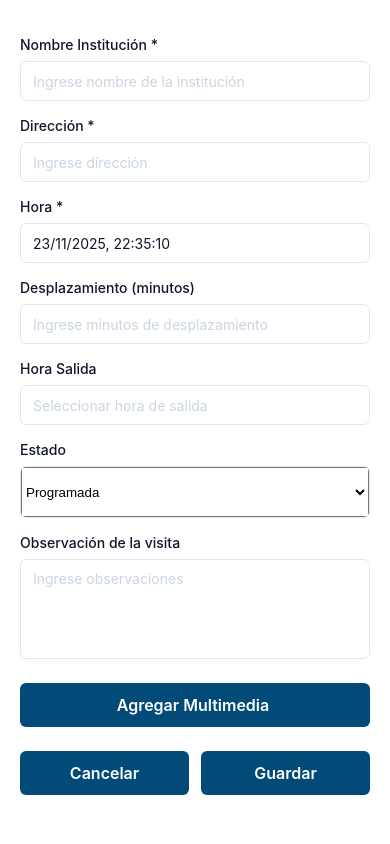
Test: VisitForm - Multimedia Upload › adjunta imagen desde galería
Click the text "Agregar Multimedia".
click(195, 705)  # box [117,695,273,715]
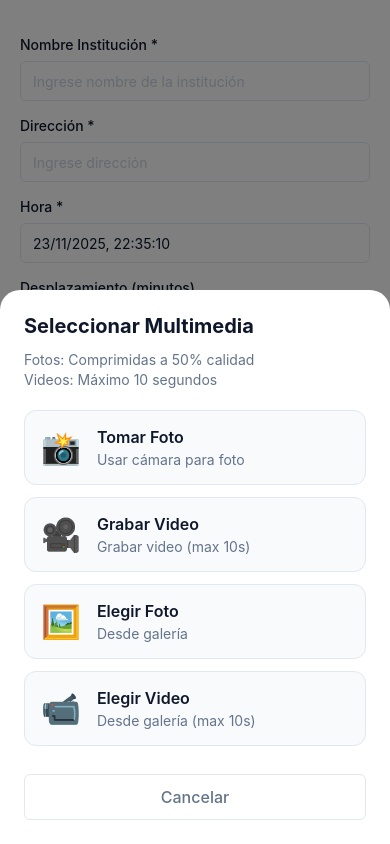
Click the text "Elegir Foto".
click(138, 611)  # box [97,601,179,621]
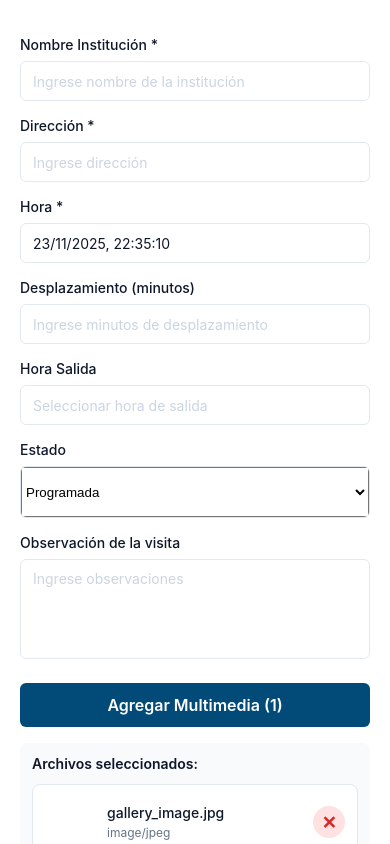
Expected: the text "gallery_image.jpg" is shown, [107,804,224,821]
